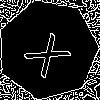X: (23, 24, 80, 80)
